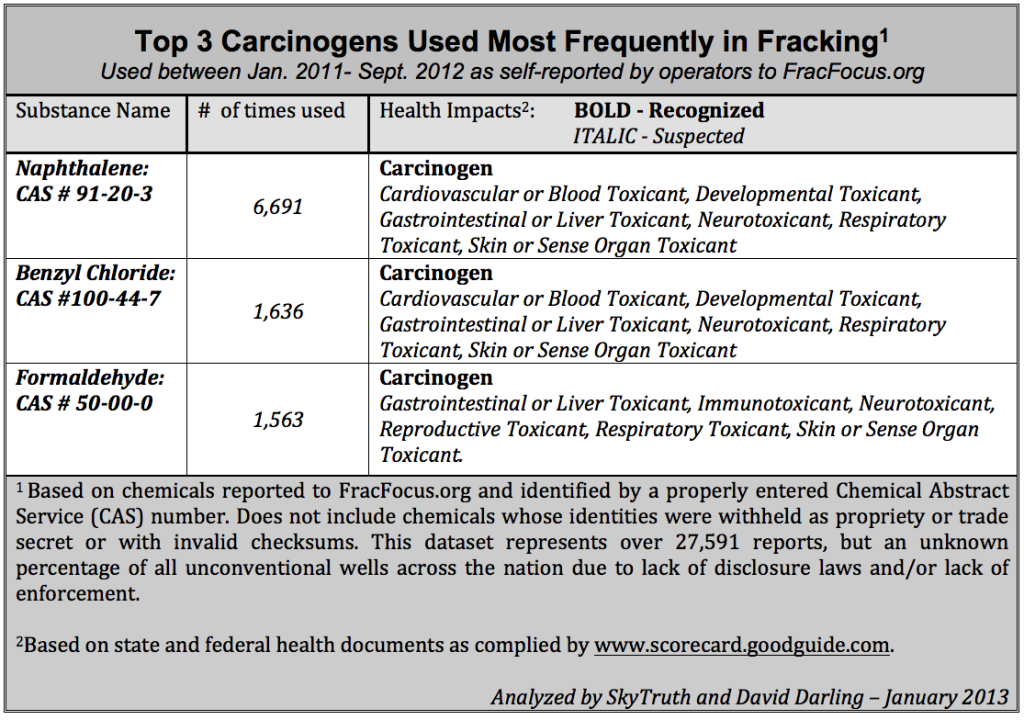fracking table: (7, 4, 1024, 476)
